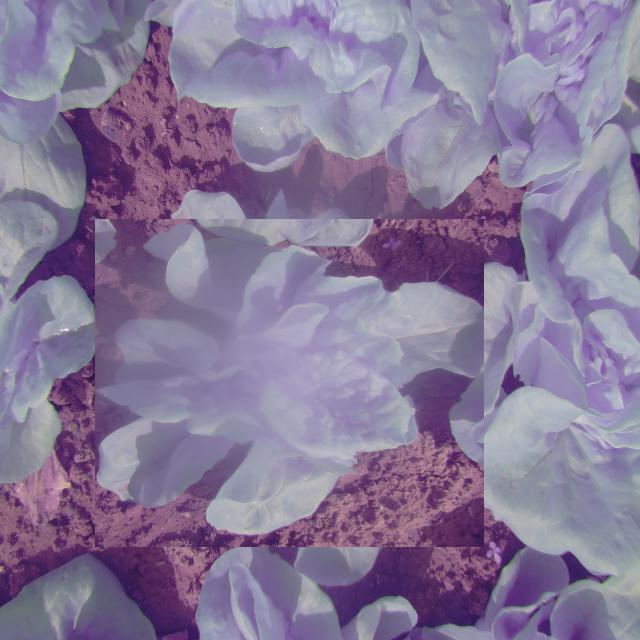vege: (110, 204, 468, 562)
